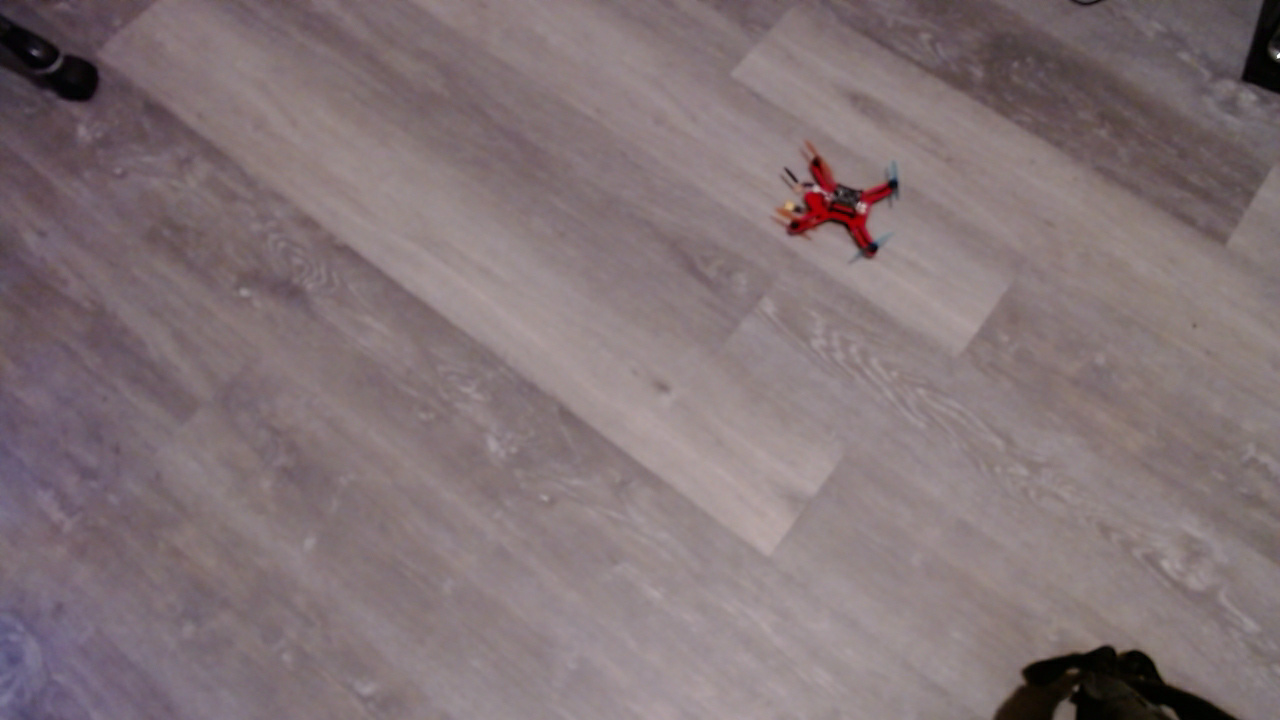crazyflie: (772, 142, 924, 273)
